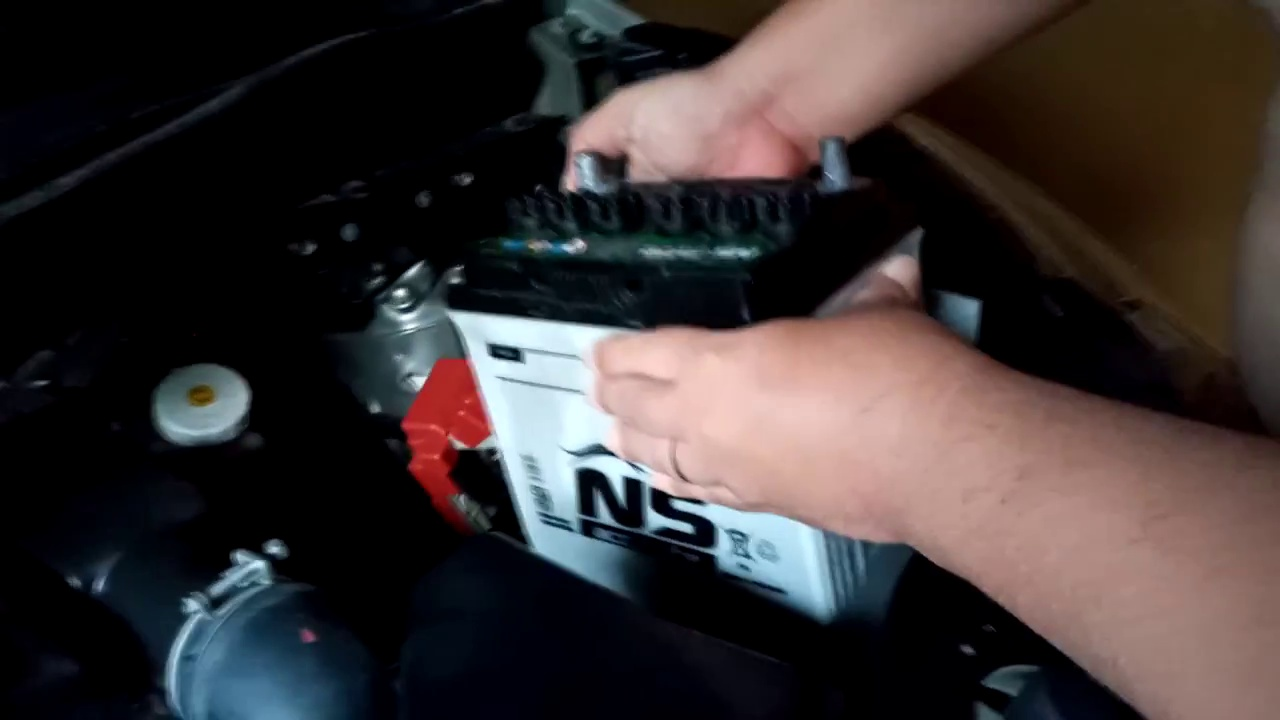battery: (459, 112, 933, 352)
